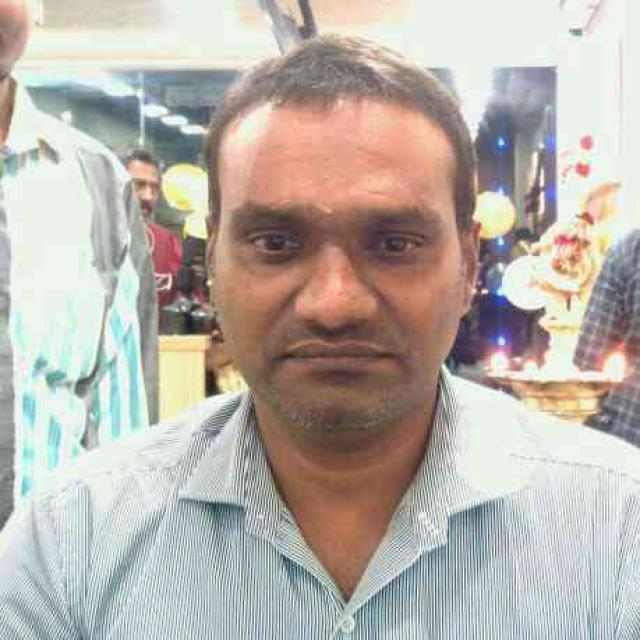puffy_eyes: (357, 245, 440, 279)
